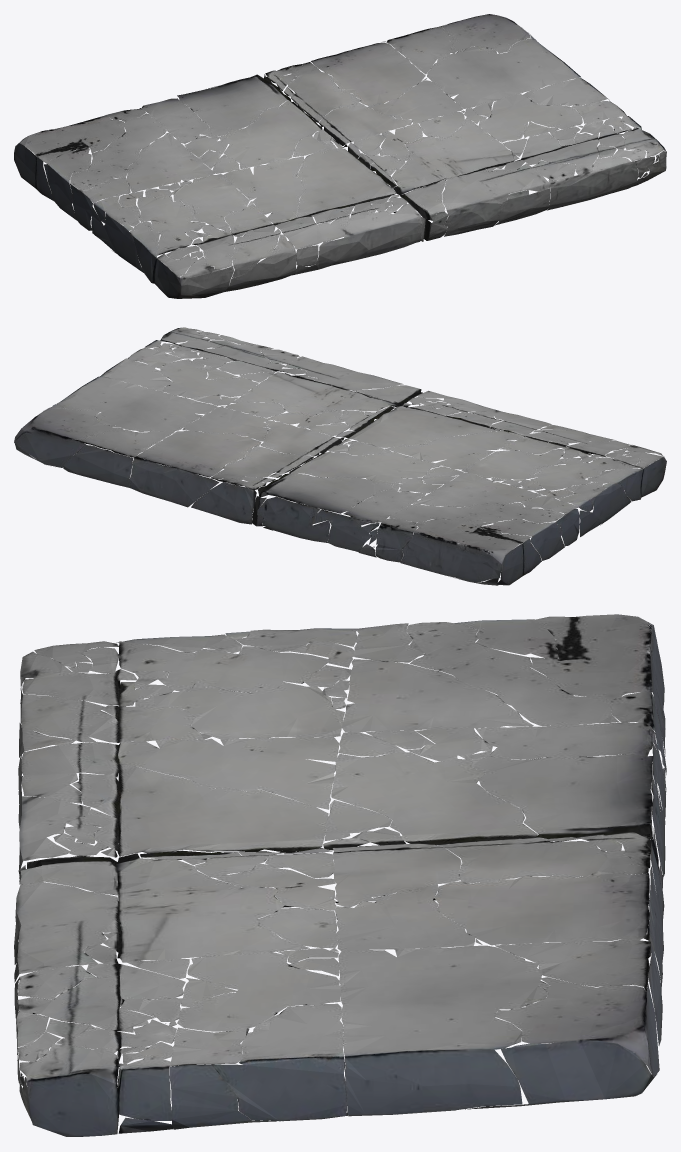
Rendered from sidewalk-1-optimized.glb.
3 renders of one model, top to bottom at view 1: azimuth 30°, elevation 25°; view 2: azimuth 150°, elevation 25°; view 3: azimuth 270°, elevation 25°, orthographic. The views are drawn at different scales.
Parts seen in each view (by area): view 1: tmped2fhhg9.obj; view 2: tmped2fhhg9.obj; view 3: tmped2fhhg9.obj.
Part boxes in pixels (x1=…): tmped2fhhg9.obj: x1=14, y1=14, x2=666, y2=298; tmped2fhhg9.obj: x1=14, y1=327, x2=666, y2=585; tmped2fhhg9.obj: x1=14, y1=614, x2=666, y2=1136.
Bounding box in the file's own units: 1.62 × 0.1868 × 0.9841.
Materials: 1 (1 with a texture image).
